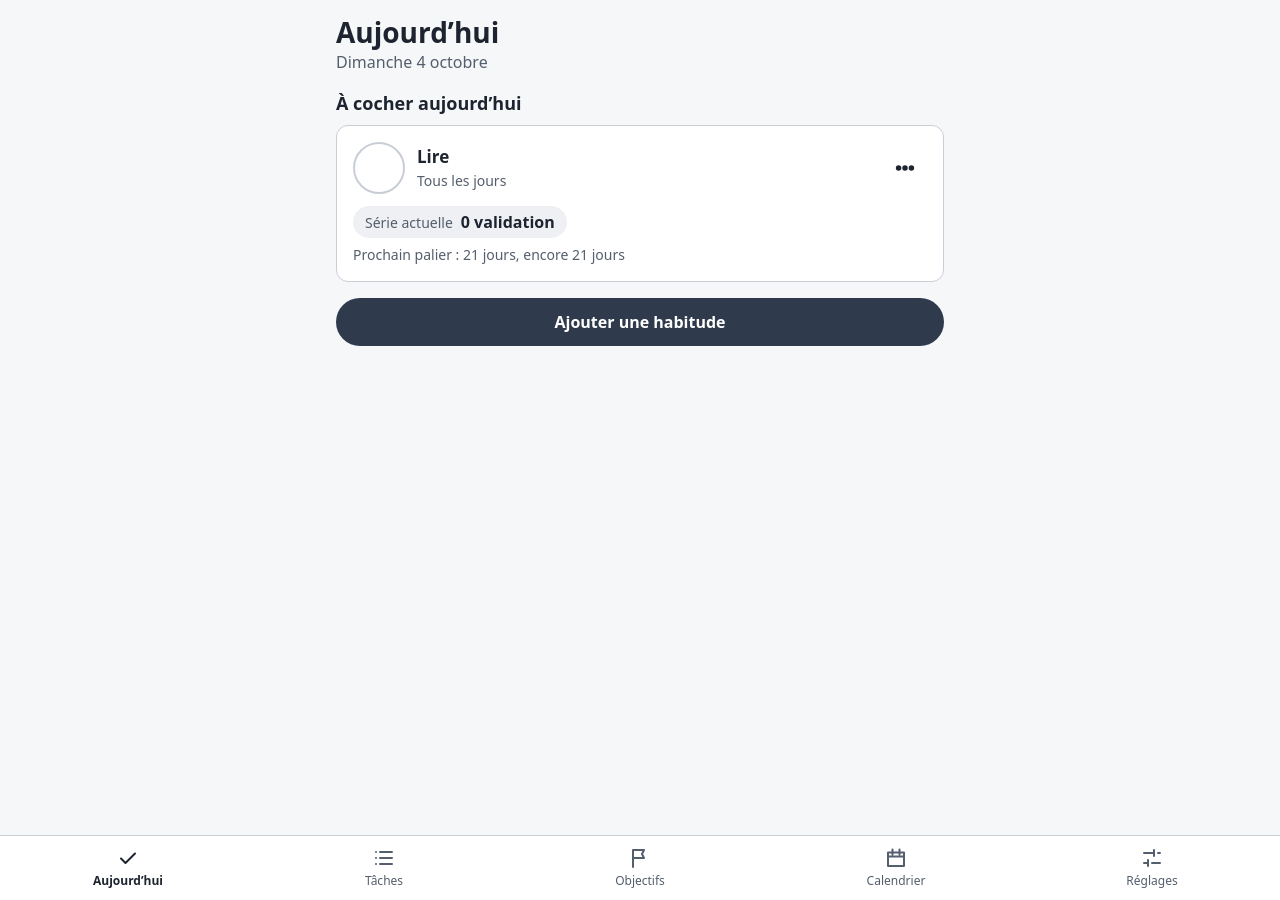
habitudes › applique directement une modification sans changement de fréquence
The width and height of the screenshot is (1280, 900).
Expected: the heading "Aujourd’hui" is shown, [336,13,499,51]
Click the button named "Gérer « Lire »": (905, 168) [883,146,927,190]
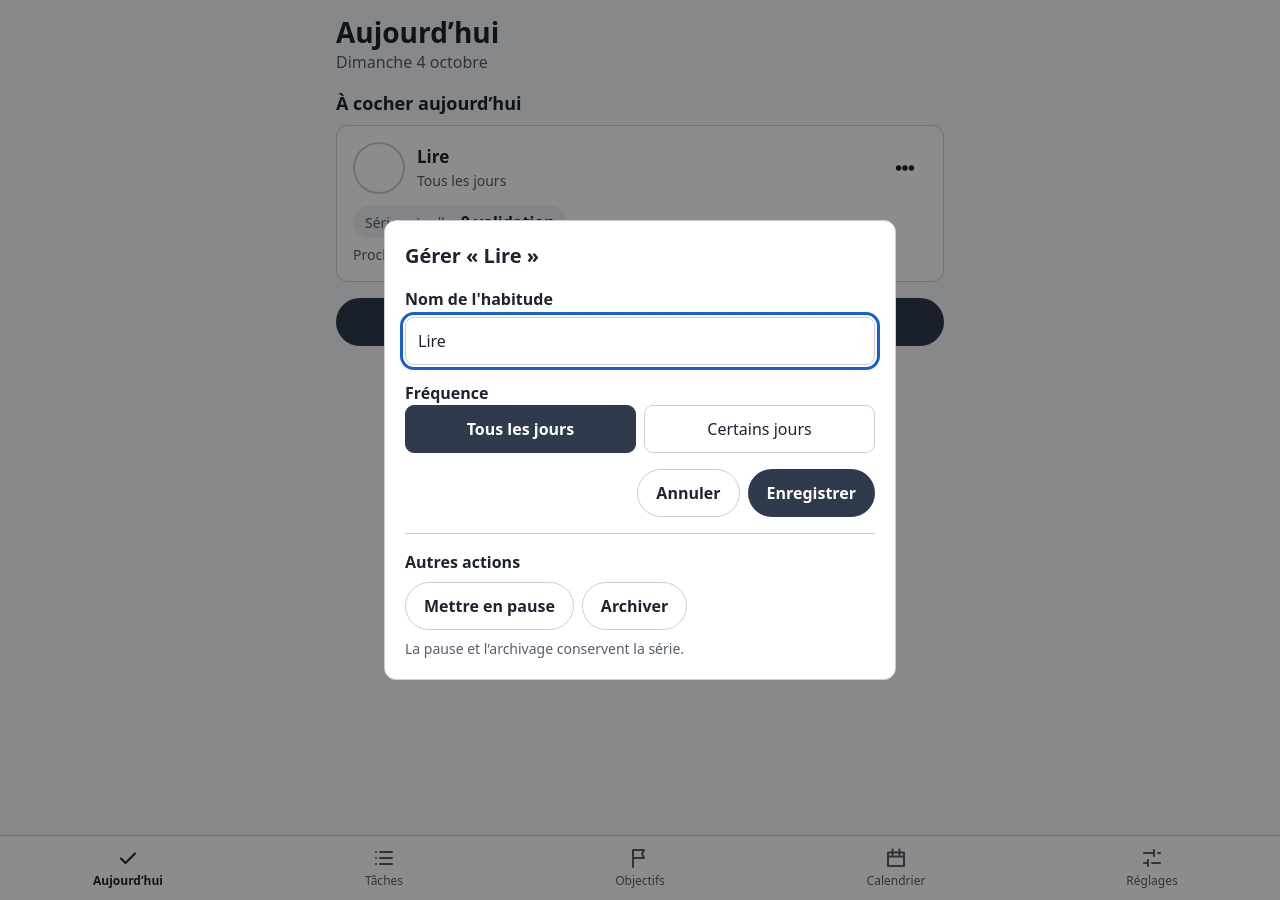
Replace the text in the field labelled "Nom de l'habitude" with "Lire le soir": (640, 341) [405,317,875,365]
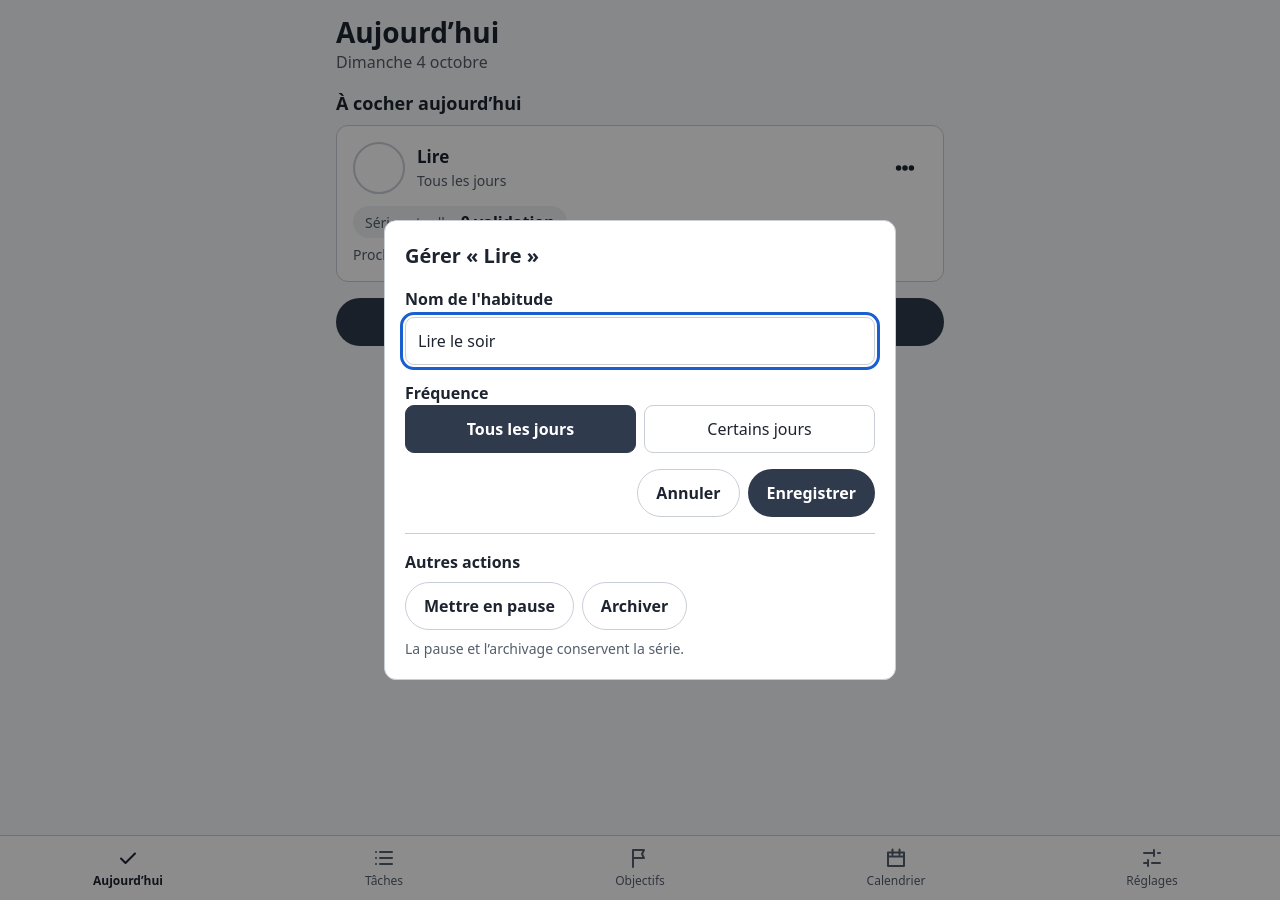
Click the button "Enregistrer": (811, 493) [748,469,875,517]
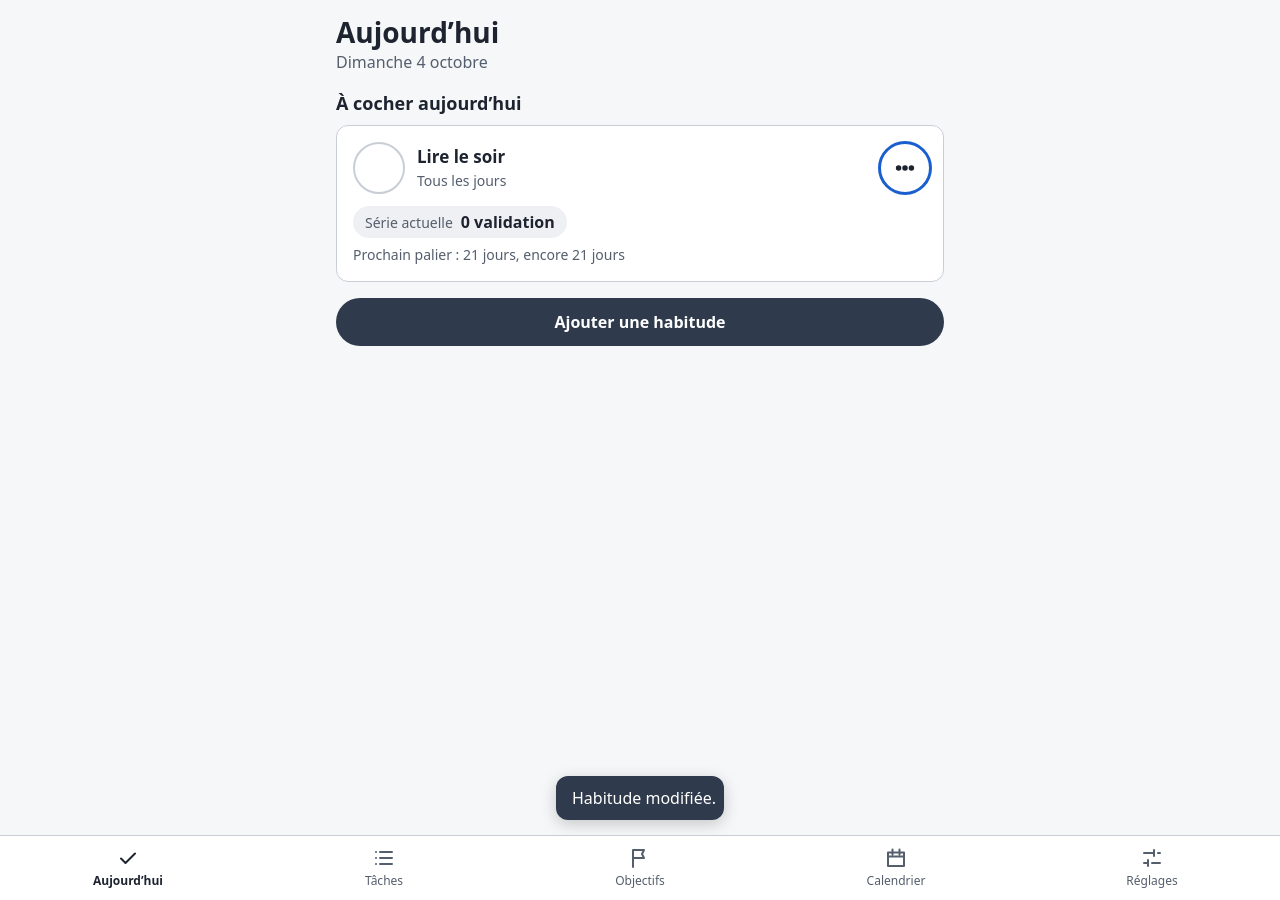
Expected: the dialog is gone
Expected: the heading "Lire le soir" is shown, [417,145,505,168]
